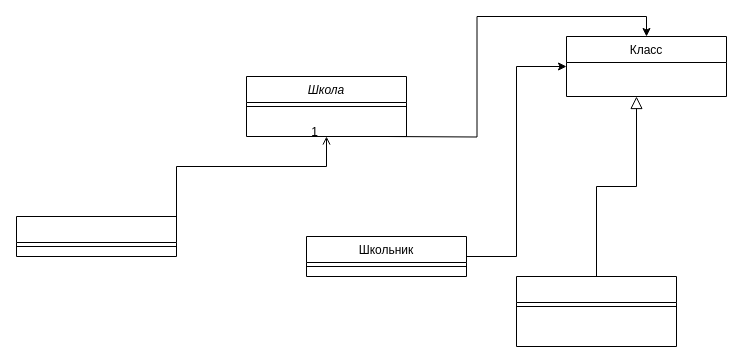
This 743x363 diagram has some shape labels left out. The box of each missing label's shape, as (x1, y1, x2, y2) in pixels:
Дошкольник: (16, 216, 176, 256)
Классный Руководитель: (516, 276, 676, 346)
